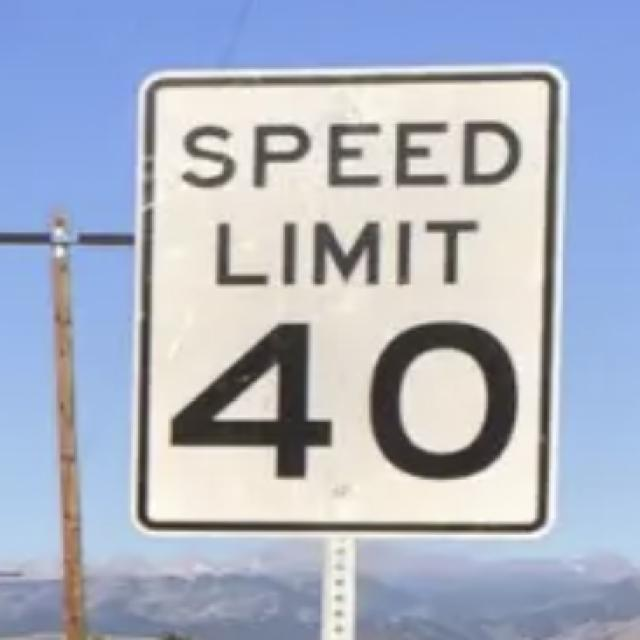speedLimit40: (142, 79, 552, 523)
